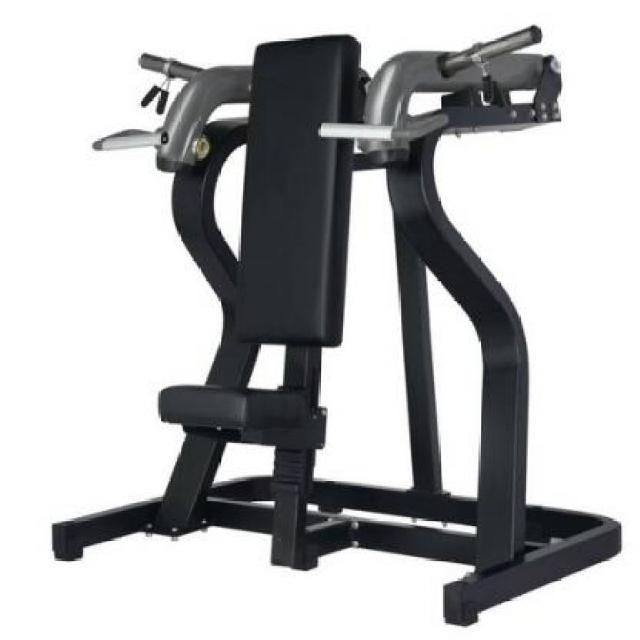shoulder press machine: (35, 26, 628, 628)
